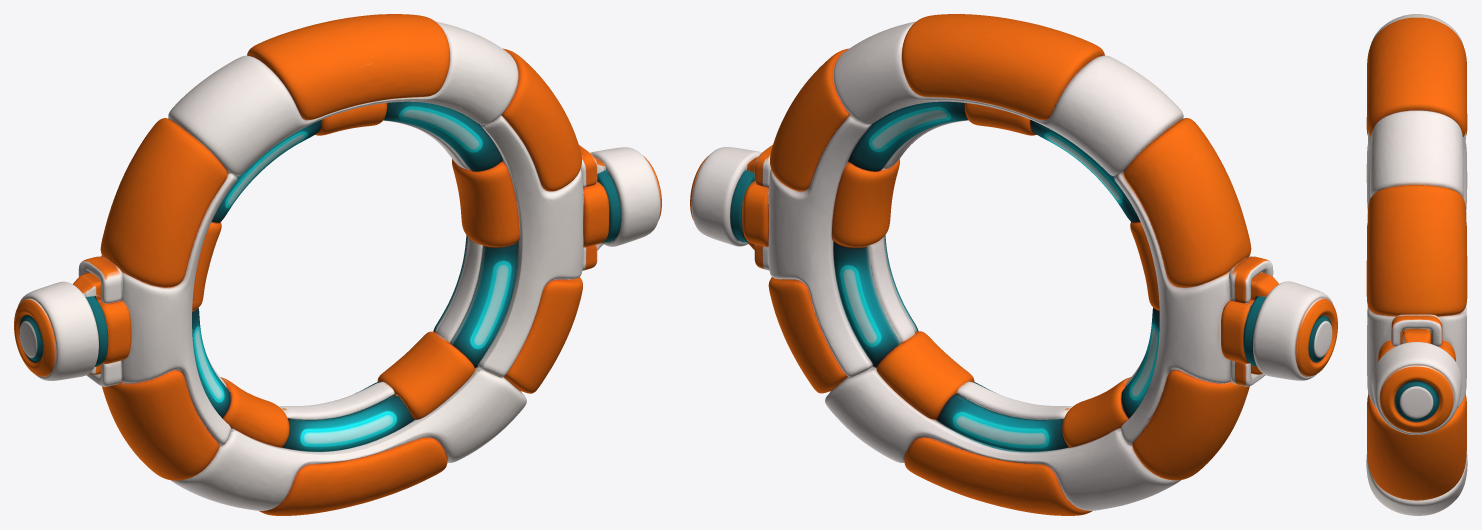
Rendered from Meshy_AI_roofline_jump_ring_3d_1024085409_image-to-3d-texture.glb.
3 renders of one model, left to right at view 1: azimuth 30°, elevation 25°; view 2: azimuth 150°, elevation 25°; view 3: azimuth 270°, elevation 25°, orthographic. The views are drawn at different scales.
Size of the model in its own units: 1.9 by 1.39 by 0.2897.
1 material, 1 textured.
